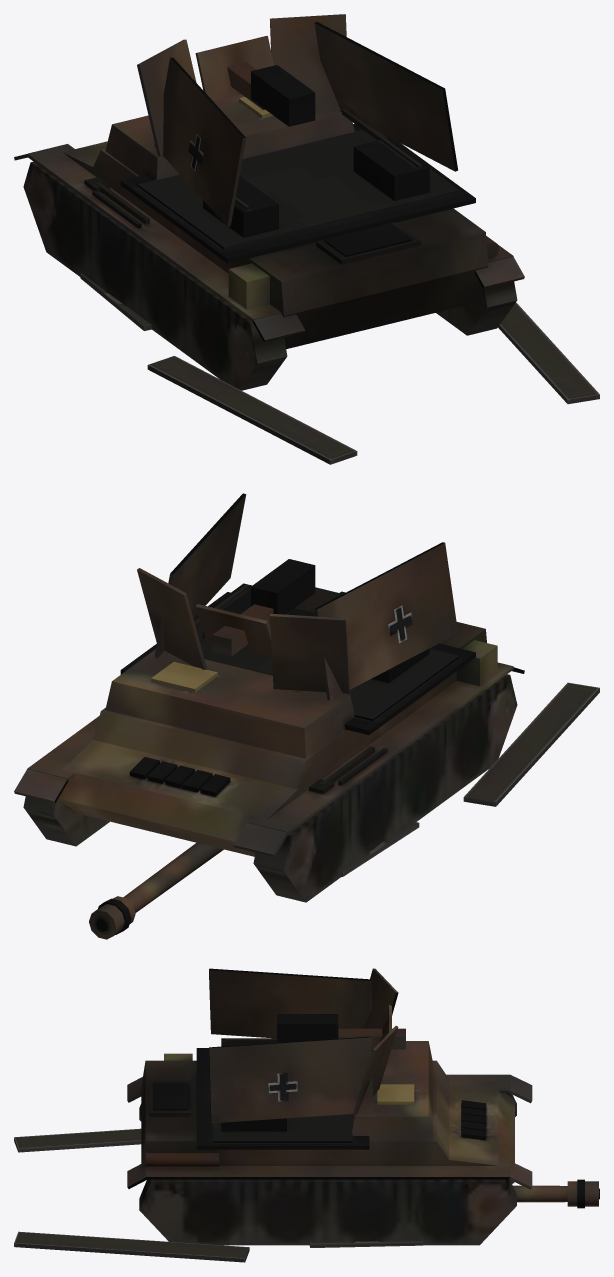
File: marder3.glb
3 renders of one model, top to bottom at view 1: azimuth 30°, elevation 25°; view 2: azimuth 150°, elevation 25°; view 3: azimuth 270°, elevation 25°, orthographic. The views are drawn at different scales.
Visible parts, largest first — view 1: hull_ko, hull_trackL, hull_trackR; view 2: hull_ko, hull_trackL, gun_ko, hull_ok; view 3: hull_ko, hull_trackR, hull_trackL, gun_ko, hull_ok.
Part boxes in pixels (x1,y1,x2,y2): hull_ko: (14,14,524,390); hull_trackL: (80,273,357,464); hull_trackR: (498,302,599,404); hull_ko: (14,493,524,902); hull_trackL: (341,682,599,876); gun_ko: (89,842,223,939); hull_ok: (151,661,217,692); hull_ko: (127,968,532,1245); hull_trackR: (14,1231,423,1262); hull_trackL: (14,1128,141,1152); gun_ko: (513,1179,599,1208); hull_ok: (377,1084,414,1104).
Bounding box in the file's own units: 3.95 × 2.89 × 7.14.
16 materials, 16 textured.
